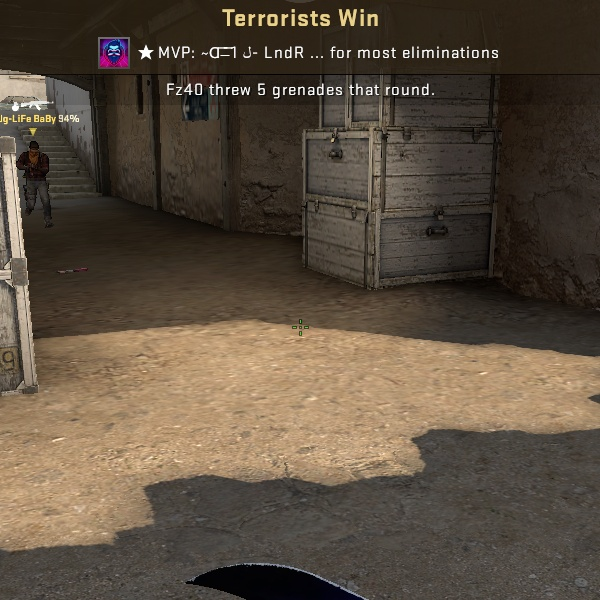t_body: (15, 133, 63, 227)
t_head: (25, 137, 42, 158)
